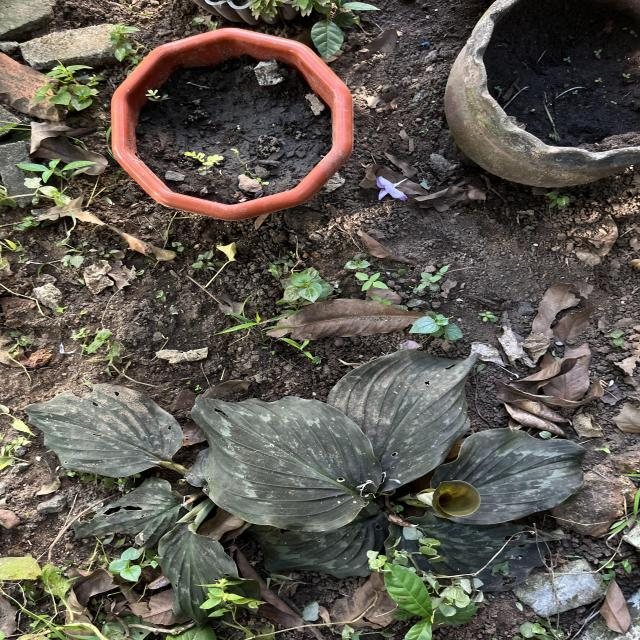Kaempferia galanga linn: (187, 392, 384, 534), (326, 346, 484, 494), (20, 381, 186, 481), (428, 426, 590, 526)
